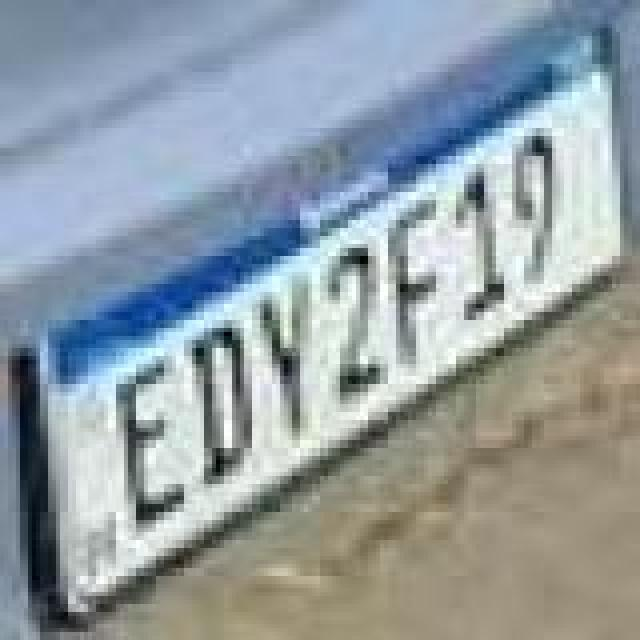1: (450, 162, 510, 318)
2: (326, 246, 394, 402)
9: (506, 130, 566, 286)
D: (184, 330, 264, 486)
E: (112, 362, 192, 526)
F: (386, 198, 446, 370)
Y: (254, 274, 322, 438)
